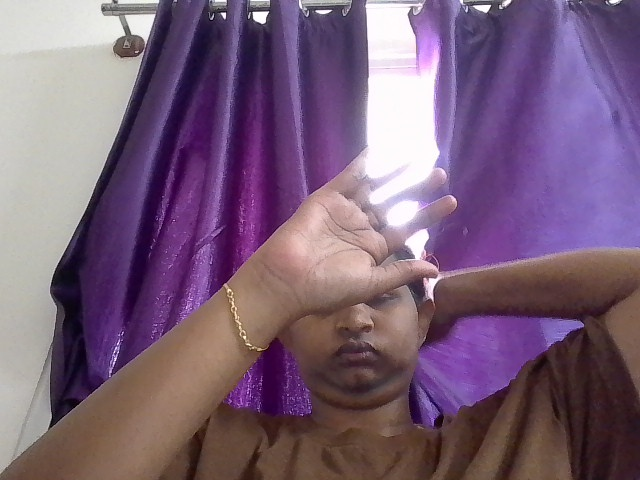HELLO: (218, 107, 508, 385)
